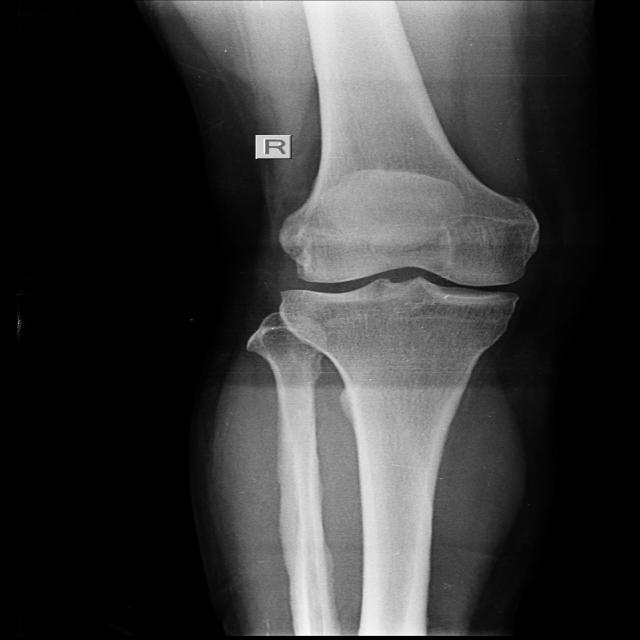normal: (268, 184, 542, 348)
